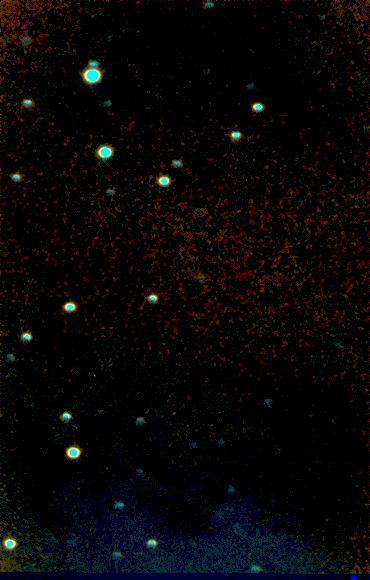star: (75, 364, 105, 394)
